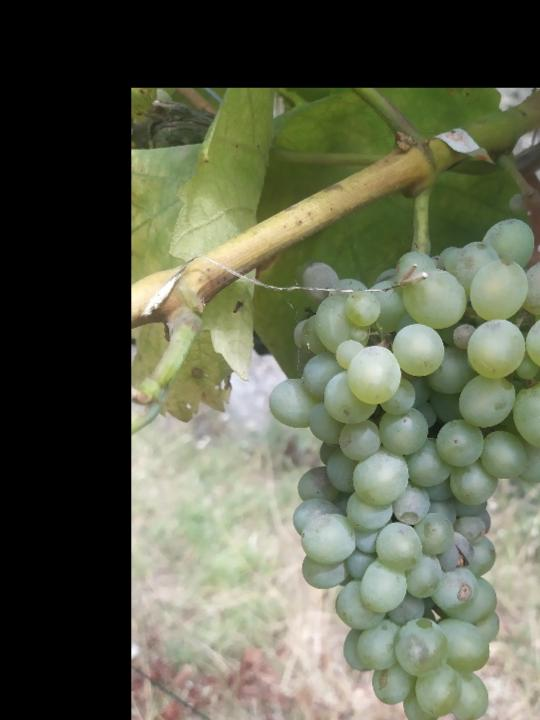grape: (272, 215, 540, 720)
